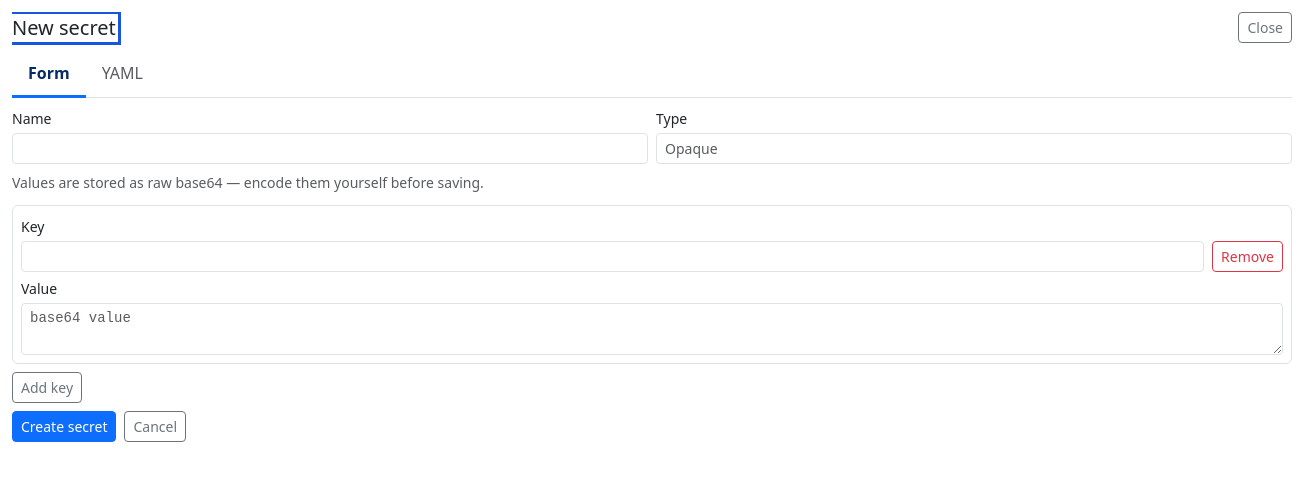
SecretCreate - form validation › rejects invalid base64 values in base64 mode
Type "api-token" into the field with id "secret-create-name".
click(330, 148); type("api-token")  # box [12,133,648,164]
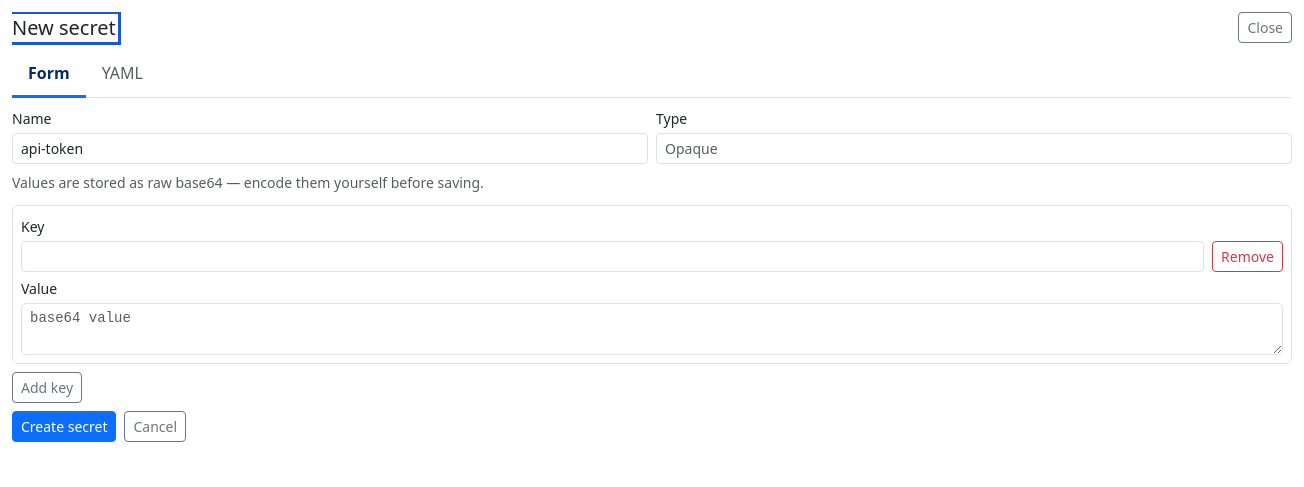
Type "user" into the field labelled "Key".
click(613, 256); type("user")  # box [21,241,1204,272]
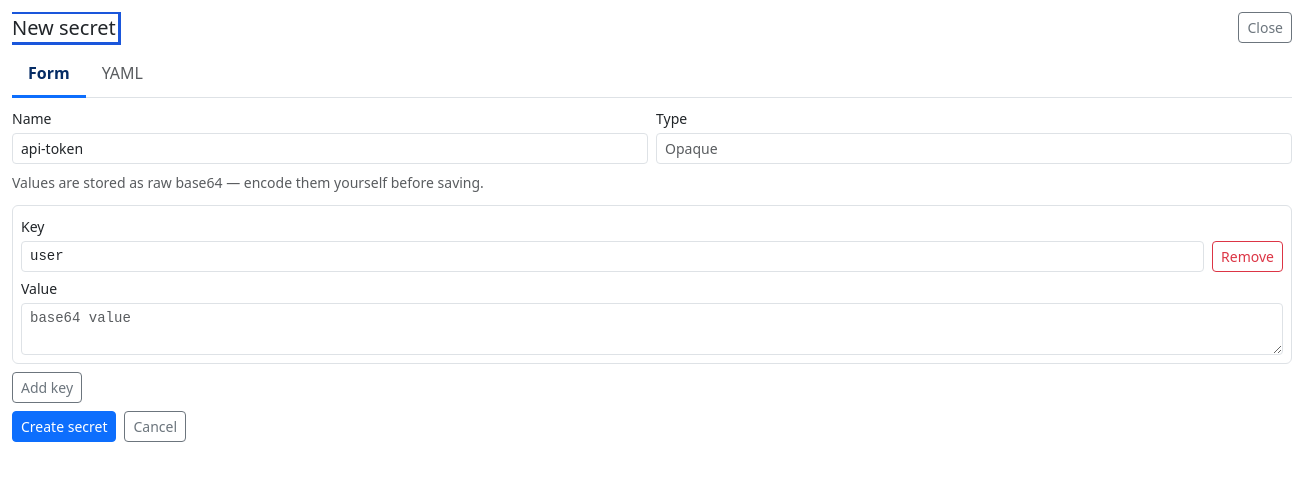
Type "not base64!!" into the text box labelled "Value".
click(652, 329); type("not base64!!")  # box [21,303,1283,355]
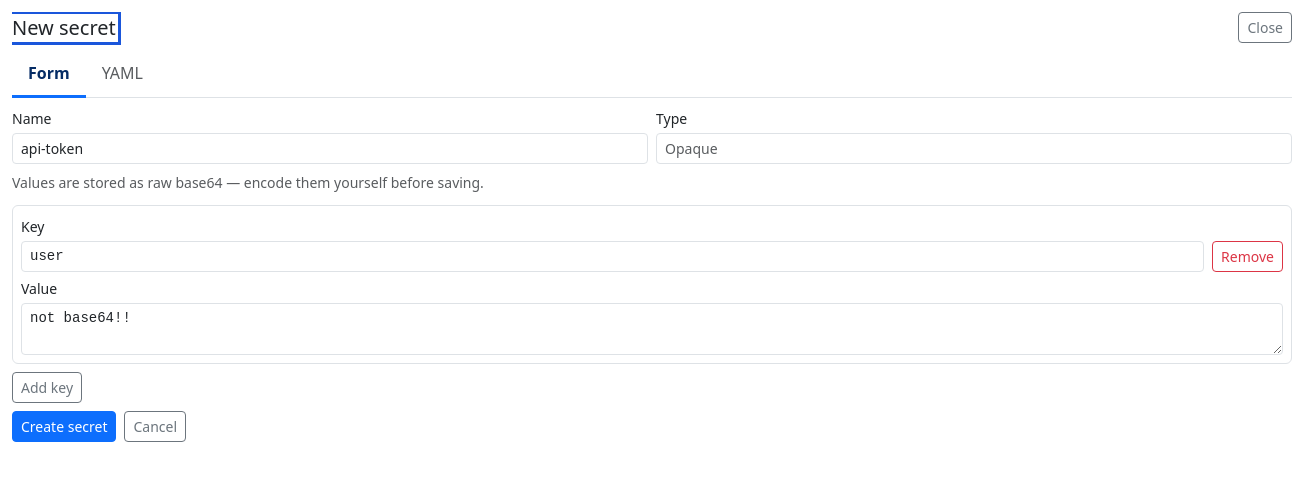
Submit the form
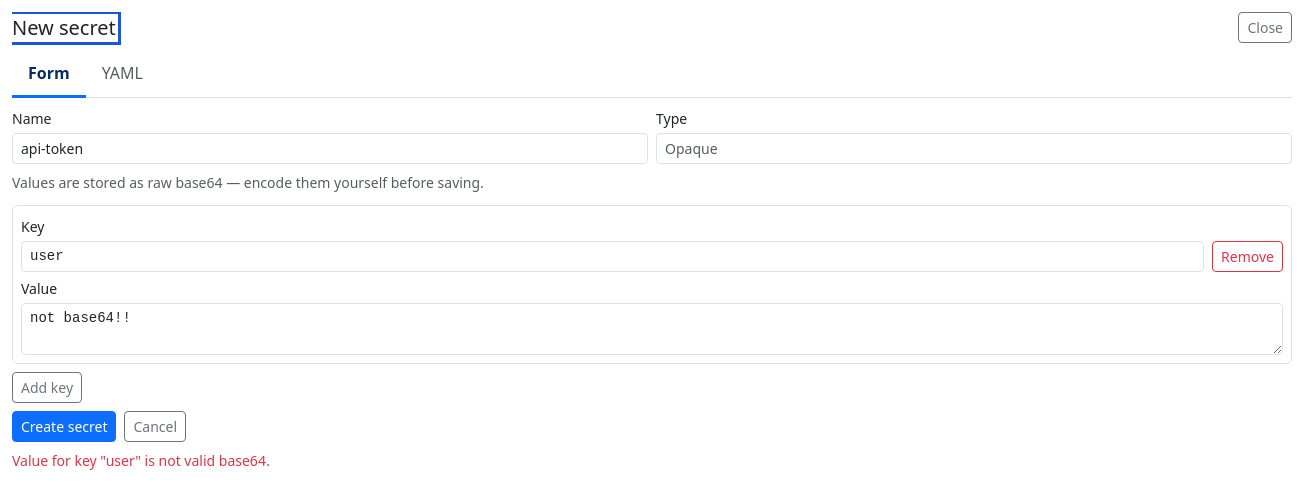
Now the message "Value for key \"user\" is not valid base64." is shown, box [12,451,270,470]
